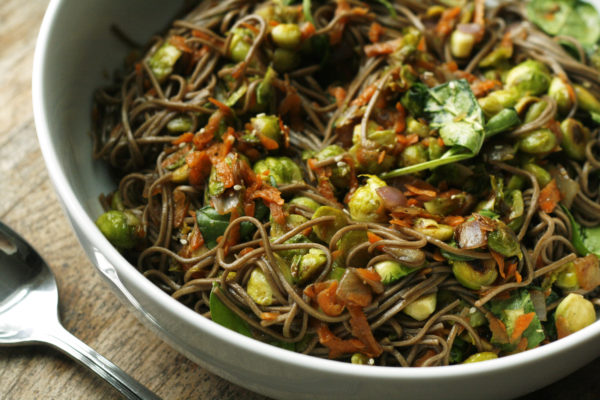Soba: (92, 8, 579, 358)
